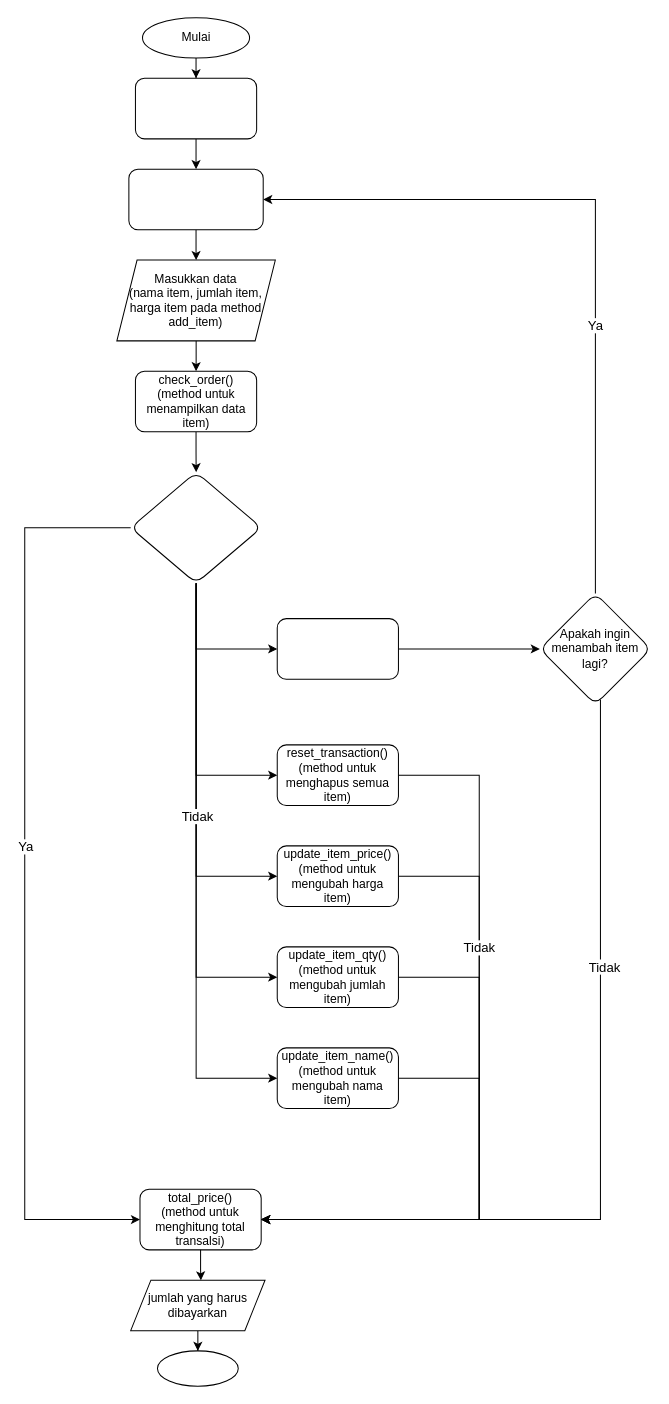
This 669x1404 diagram has some shape labels left out. Here are the shapes that lost their labels. From the top down, the box of each, then its label:
(134, 77, 257, 139): Transaction() ()
(128, 168, 263, 230): add_item() (method untuk menambahkan item)
(130, 471, 261, 583): Apakah transaksi sudah selesai?
(276, 618, 398, 679): delete_item() (method untuk menghapus satu item)
(156, 1350, 238, 1386): selesai
